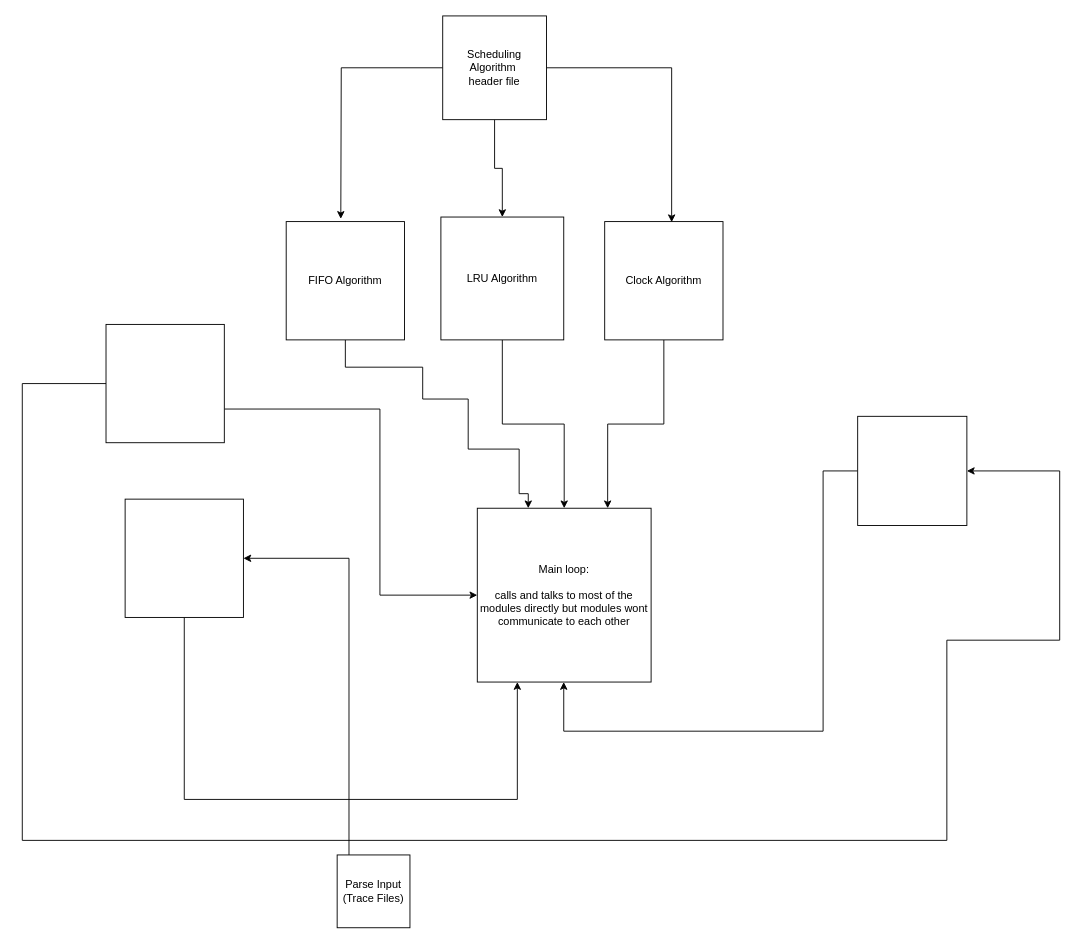
Some shapes in this 1083 by 944 pixel diagram are drawn without their labels. The shapes that lost their labels are listed below. From the top down, each one's centre as x and y in pixels, then its label:
(164,383): Swap/Paging device module
(912,470): Statistics Module: must communicate with other modules to get stats
(183,557): Page map Module Hash Table: To translate PID,VPN to PPN
